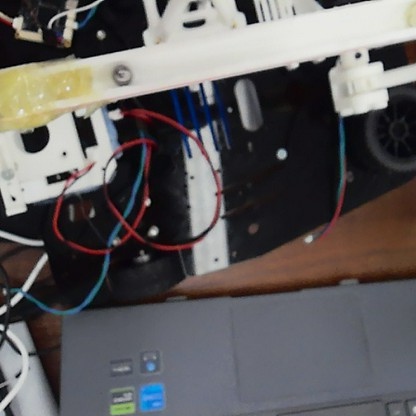ironball: (108, 59, 132, 89)
